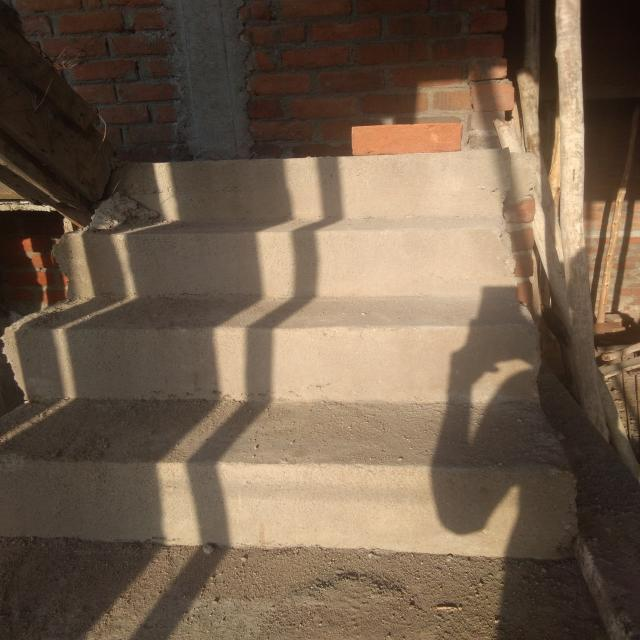stair: (68, 150, 591, 561)
